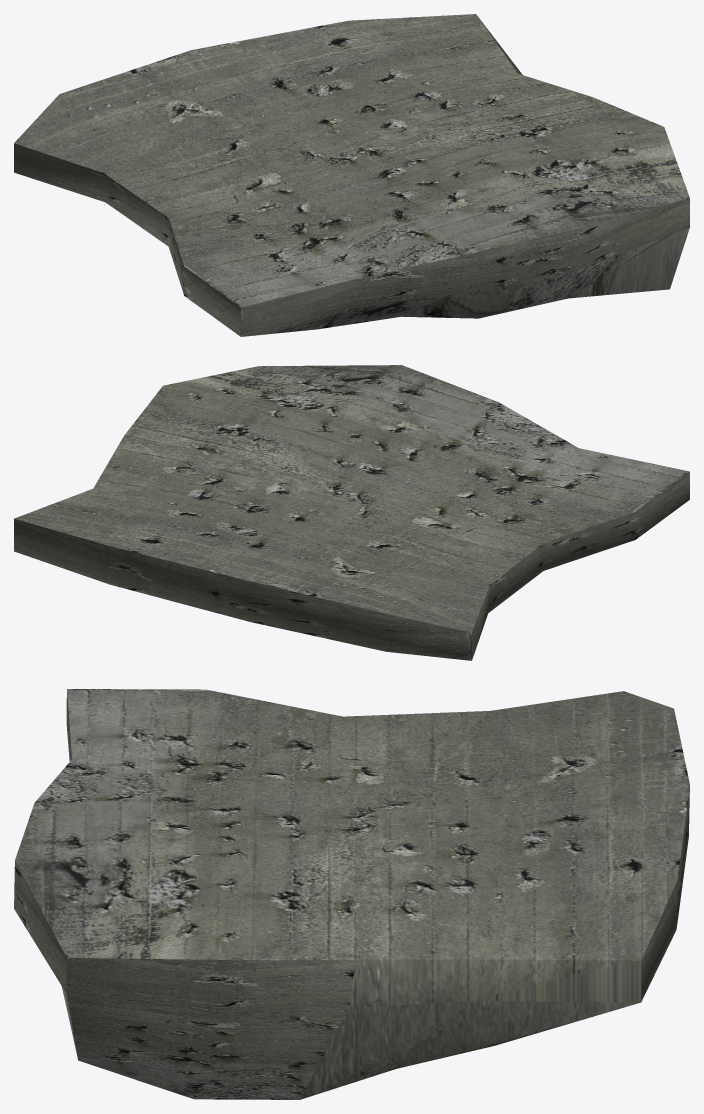
Rendered from ConSlab1.FBX.
3 views of the same model, one above another, from view 1: azimuth 30°, elevation 25°; view 2: azimuth 150°, elevation 25°; view 3: azimuth 270°, elevation 25° (orthographic). The views are drawn at different scales.
Visible parts, largest first — view 1: Box01; view 2: Box01; view 3: Box01.
Part boxes in pixels (x1,y1,x2,y2): Box01: [14, 14, 689, 336]; Box01: [14, 365, 689, 660]; Box01: [14, 689, 689, 1099].
Size of the model in its own units: 1.73 by 0.4402 by 1.7.
Materials: 1 (1 with a texture image).
